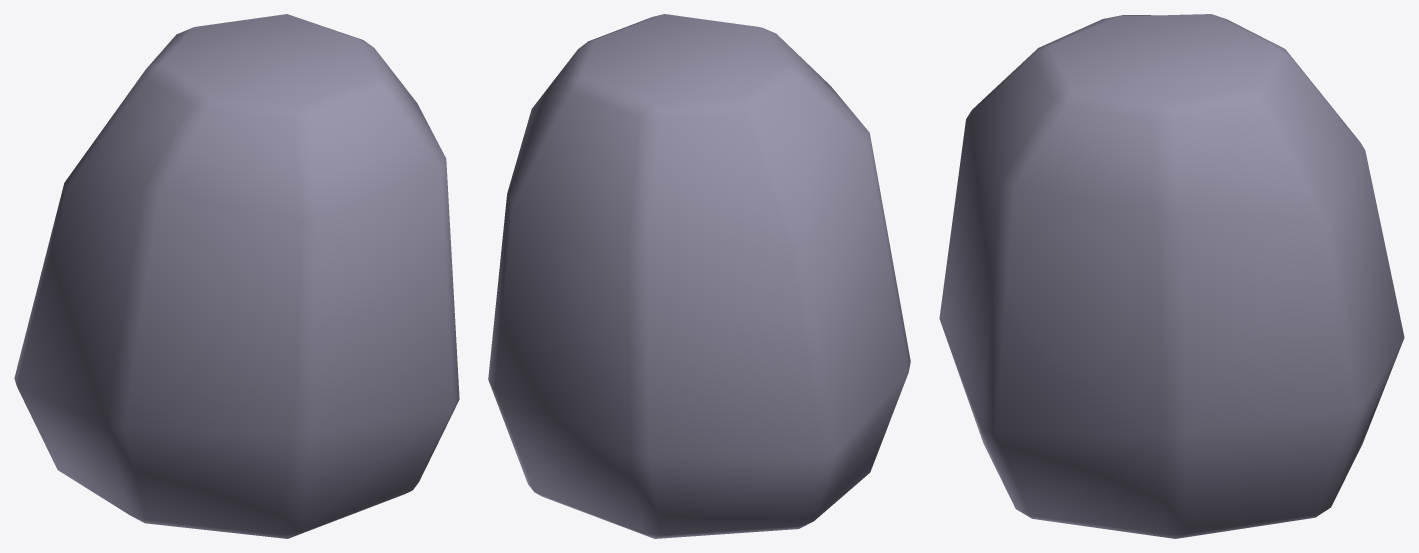
Rendered from round_rock_01.glb.
3 views of the same model, side by side, from view 1: azimuth 30°, elevation 25°; view 2: azimuth 150°, elevation 25°; view 3: azimuth 270°, elevation 25° (orthographic). The views are drawn at different scales.
Parts seen in each view (by area): view 1: round_rock_01; view 2: round_rock_01; view 3: round_rock_01.
Boxes of the visible parts, x1,y1,x2,y2 form: round_rock_01: (14, 14, 459, 538); round_rock_01: (488, 14, 910, 538); round_rock_01: (939, 14, 1404, 538).
Bounding box in the file's own units: 0.5775 × 0.62 × 0.6162.
